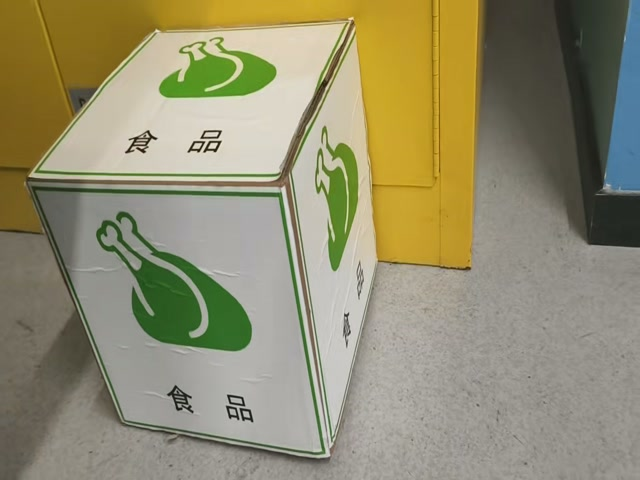Cube_food: (28, 20, 353, 188)
